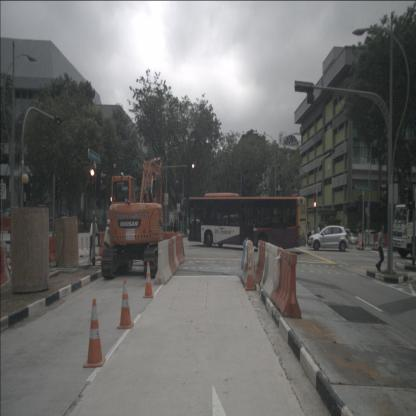barrier: (271, 247, 302, 318), (260, 243, 280, 300), (240, 239, 258, 286), (154, 240, 172, 284), (76, 232, 99, 258), (255, 238, 266, 286), (166, 238, 177, 276), (175, 235, 185, 264), (0, 247, 7, 284), (172, 236, 179, 268), (358, 232, 374, 245), (373, 234, 388, 247)
cone: (81, 297, 110, 369), (116, 279, 135, 331), (142, 261, 155, 299), (243, 254, 256, 290), (357, 238, 360, 247)
